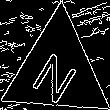N_NE: (29, 38, 85, 103)
